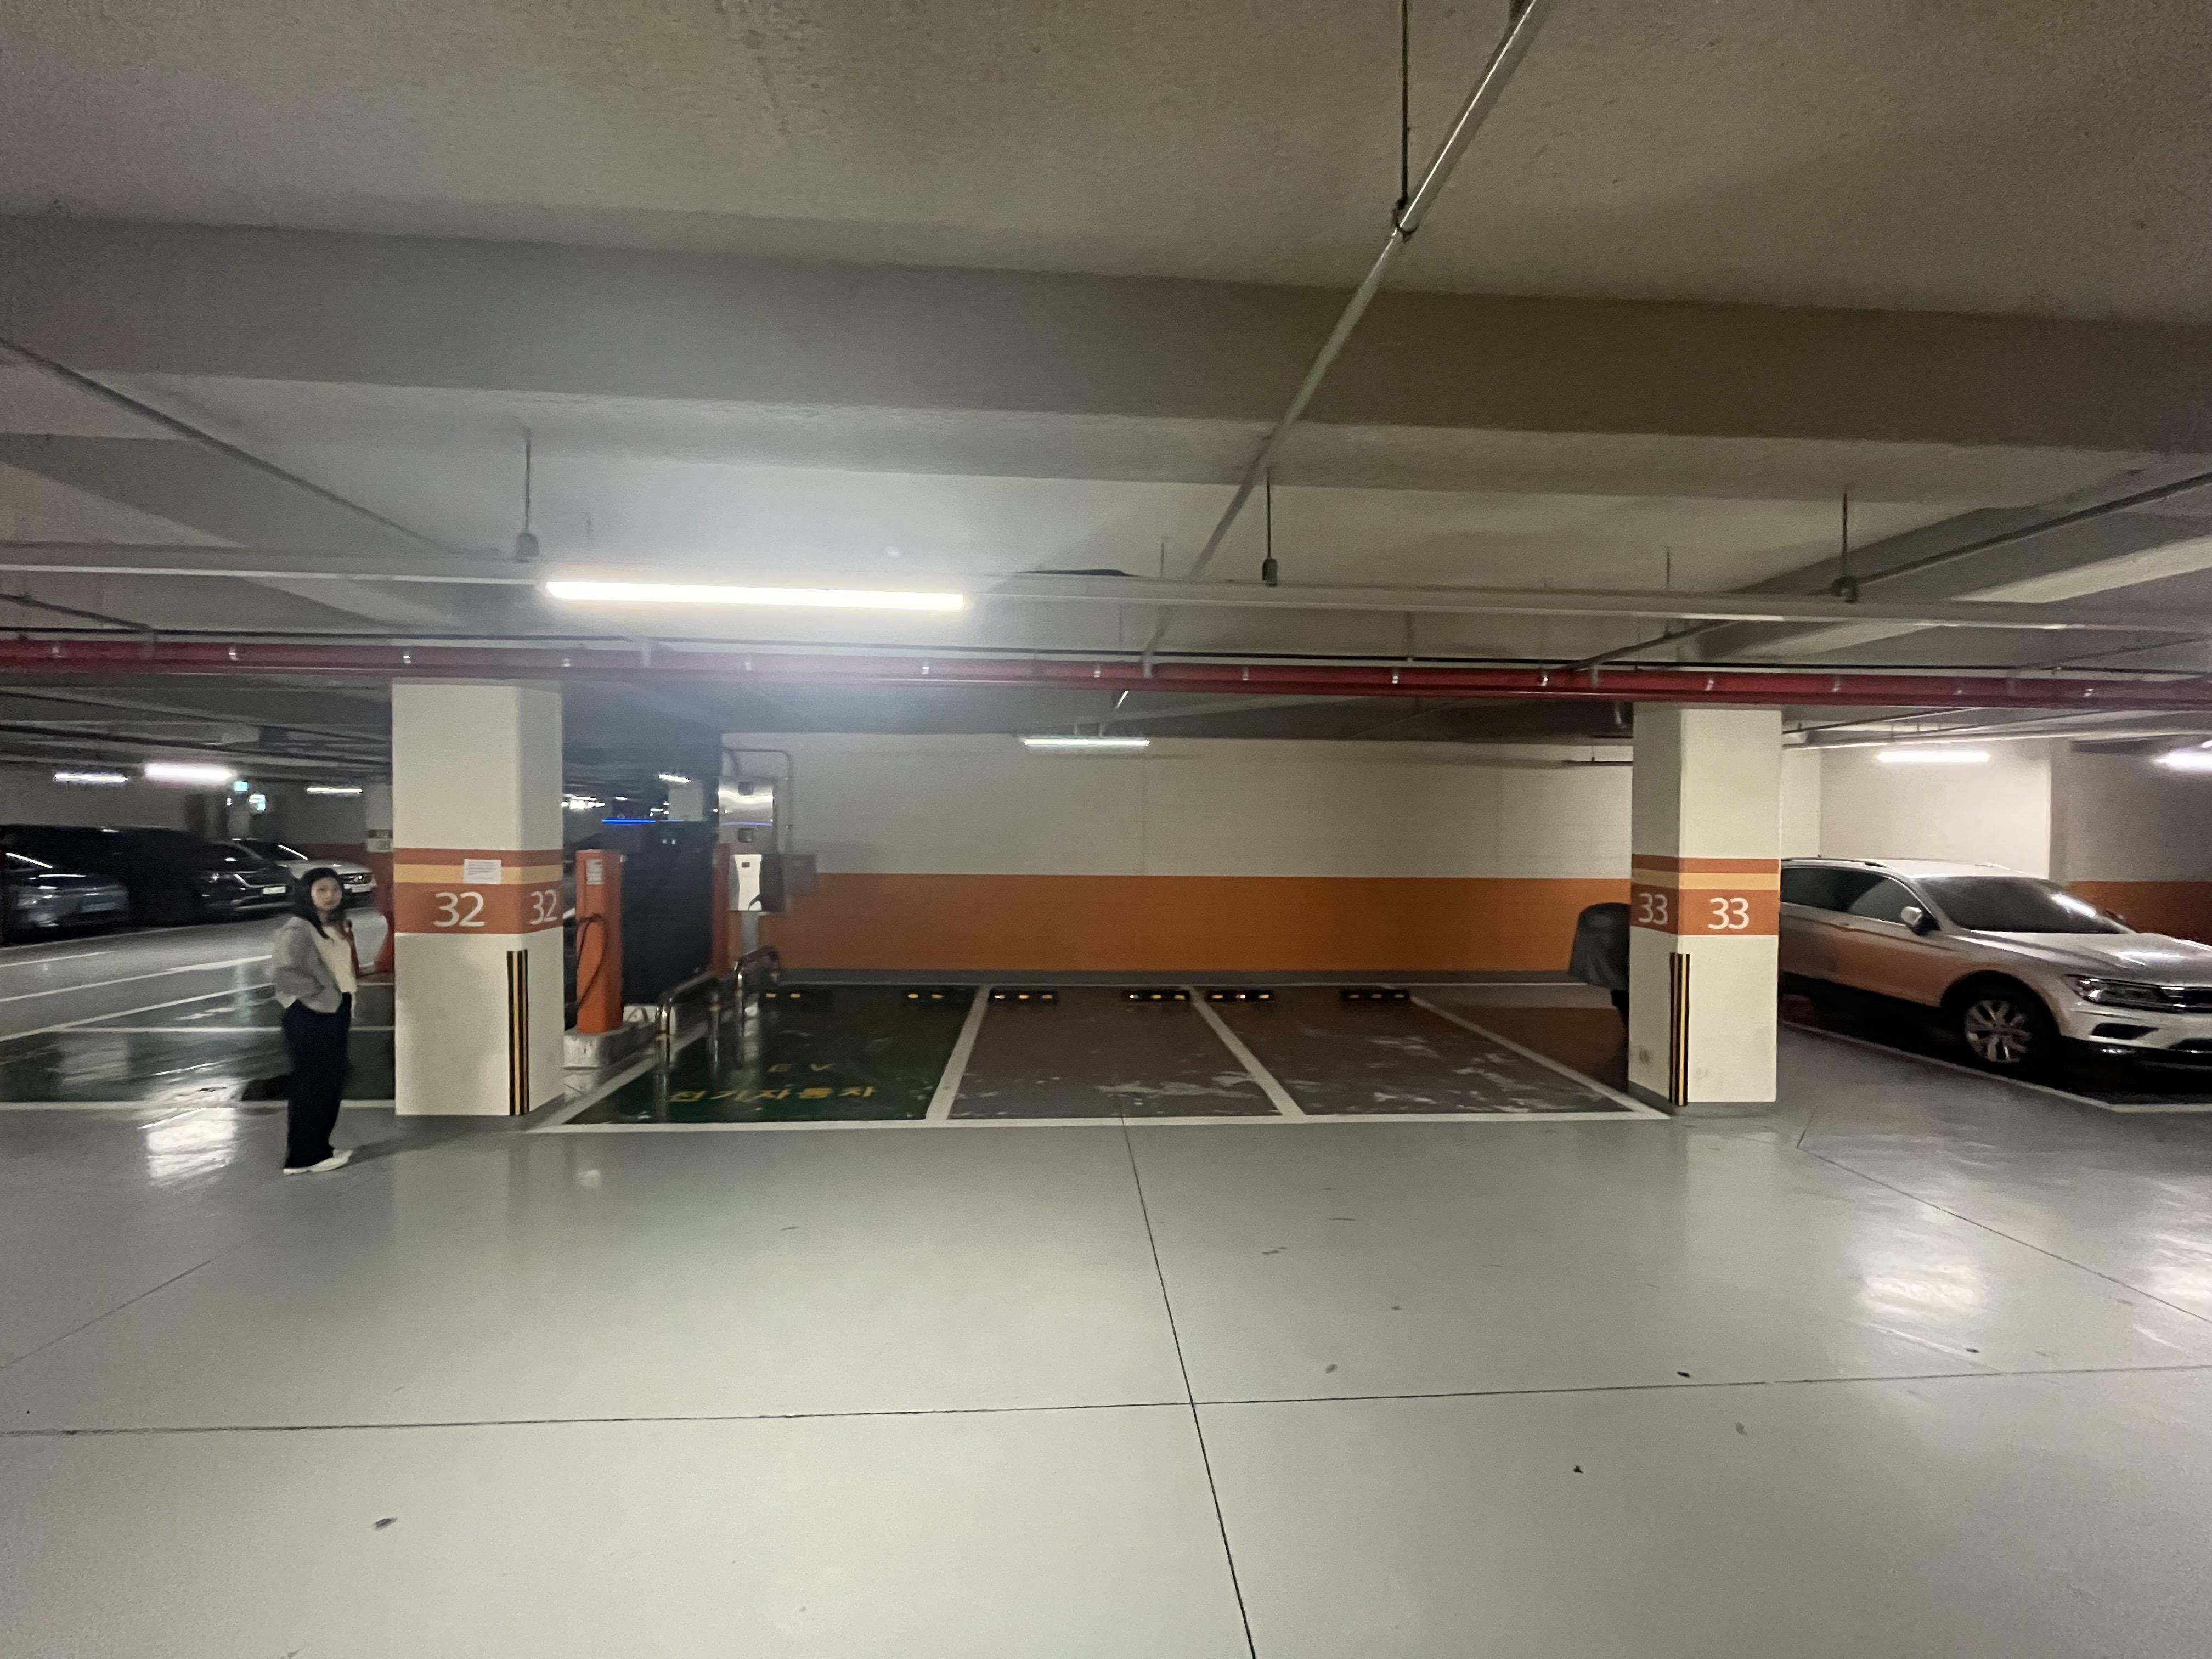empty: (1197, 977, 1689, 1130), (912, 966, 1316, 1135)
